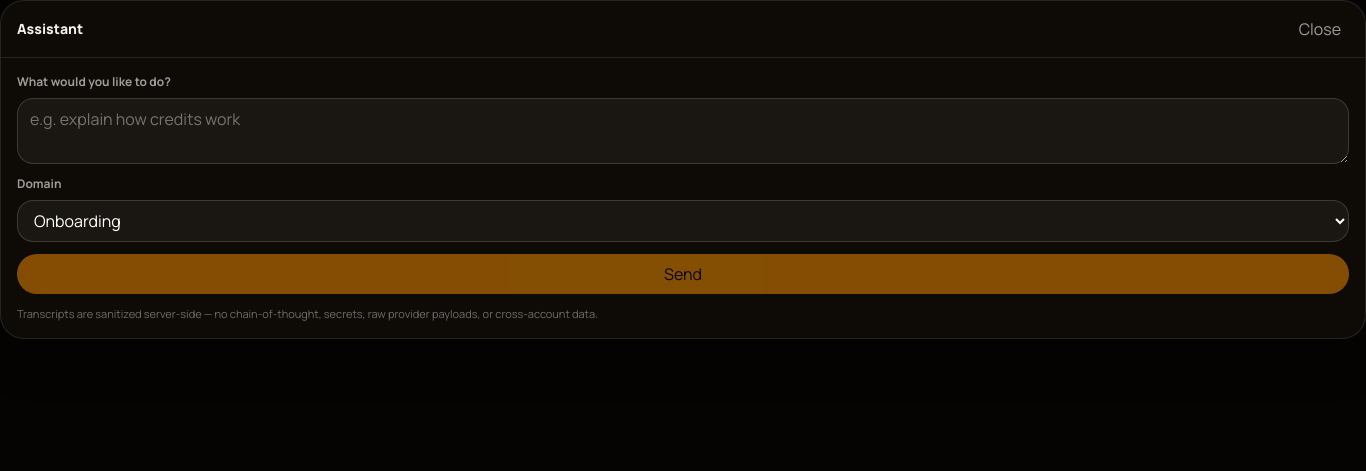
AssistantPanel › submits the intent and domain to the server action for a signed-in user
Type "explain how credits work" into the text box labelled "What would you like to do?". click: (683, 131)
box: [17,98,1349,164]
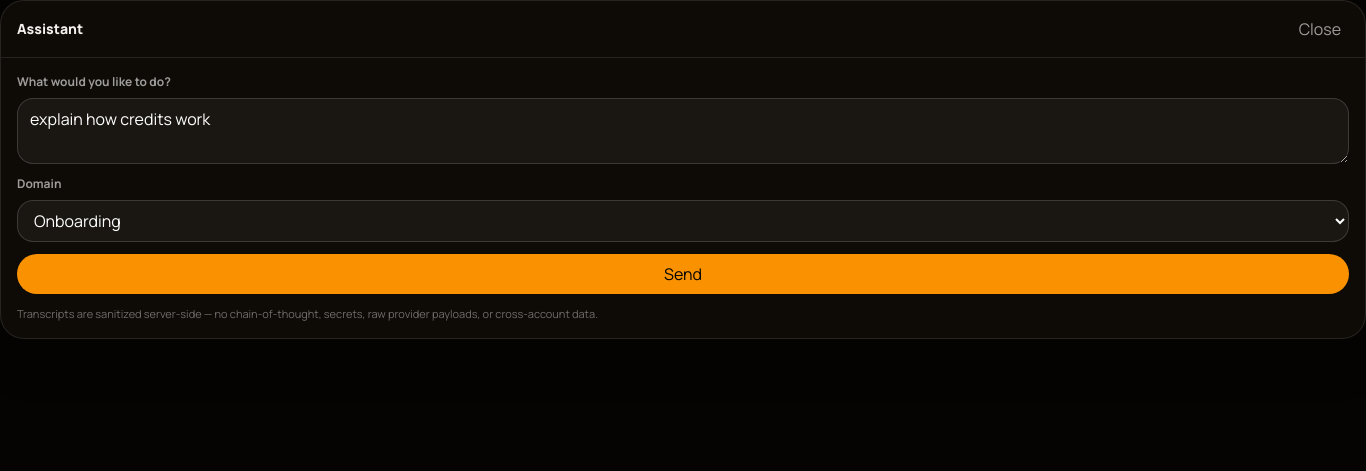
Select "Credits and costs" in the dropdown labelled "Domain". click: (683, 221)
box: [17,200,1349,242]
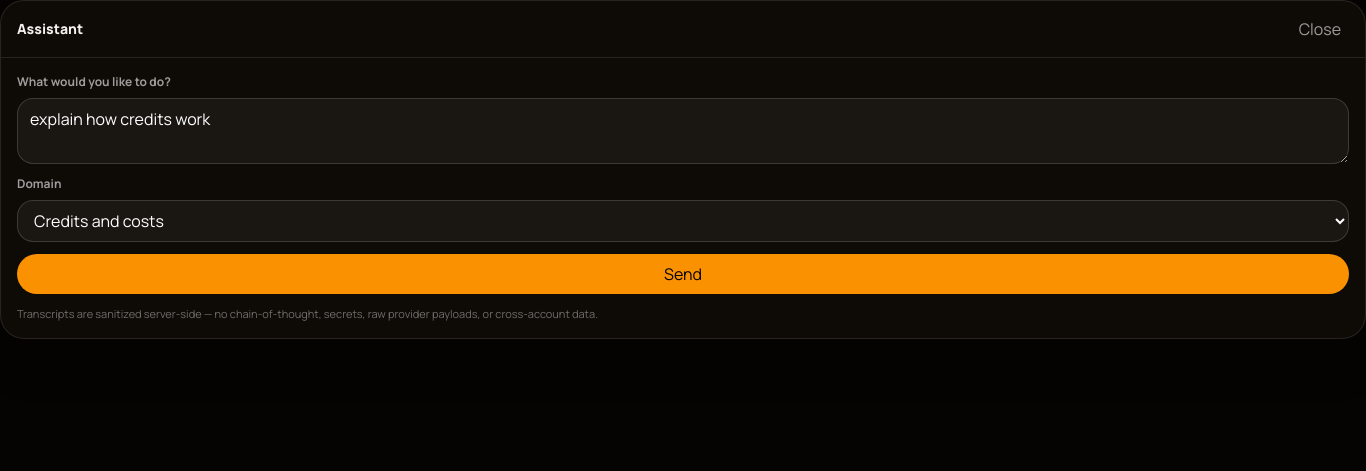
Click the button "Send". click: (683, 274)
box: [17,254,1349,294]
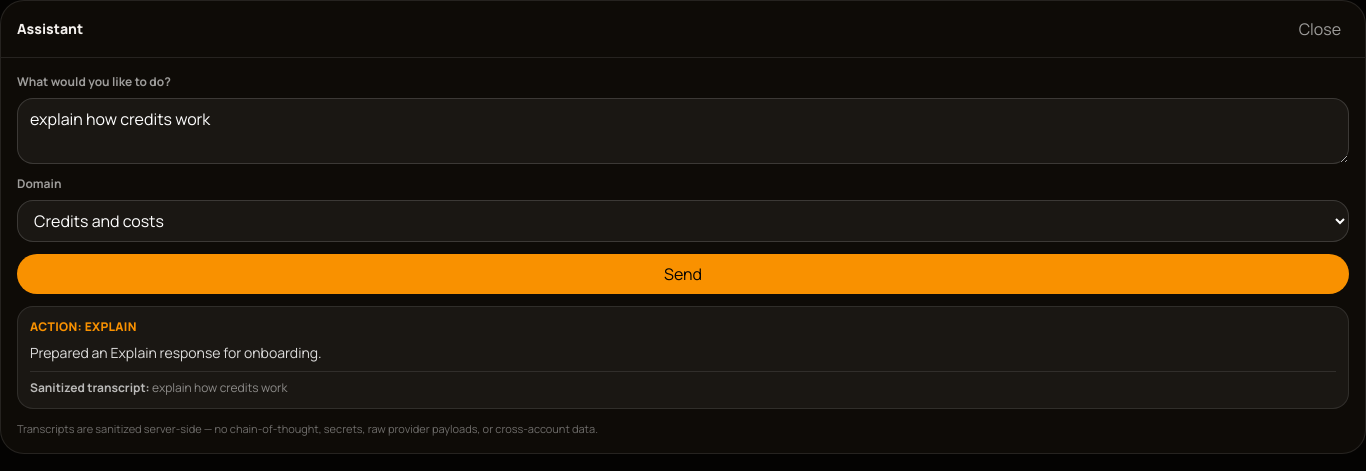
expect the text "Prepared an Explain response for onboarding." is shown: met, box [30,343,322,362]
expect the text "Sanitized transcript:" is shown: met, box [30,379,150,396]
